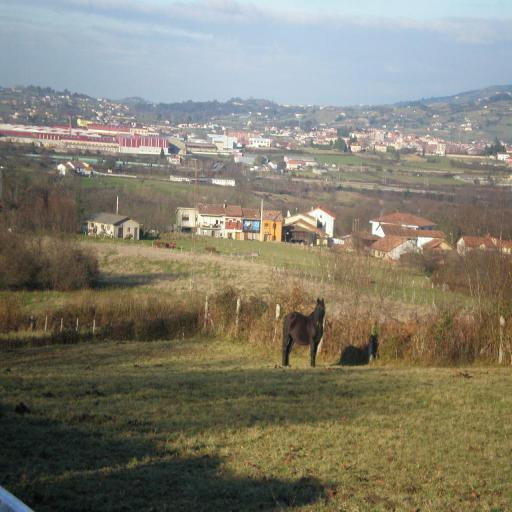horse: (282, 297, 326, 367), (330, 334, 380, 366)
